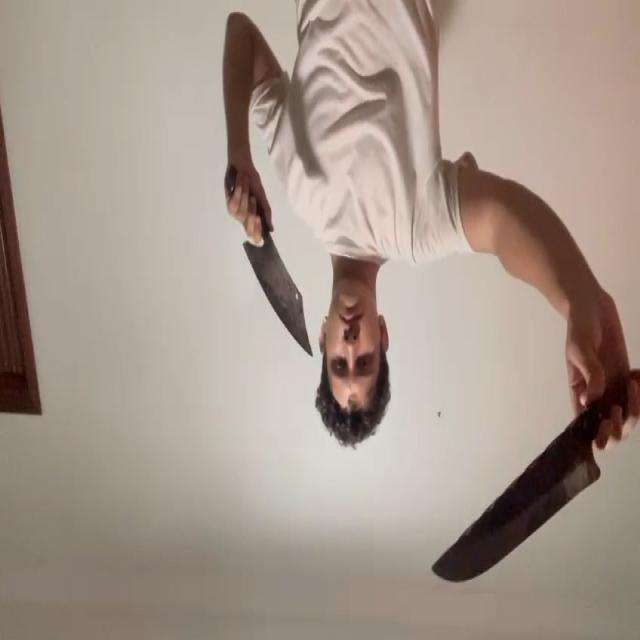knife: (432, 458, 604, 582), (243, 242, 312, 358)
